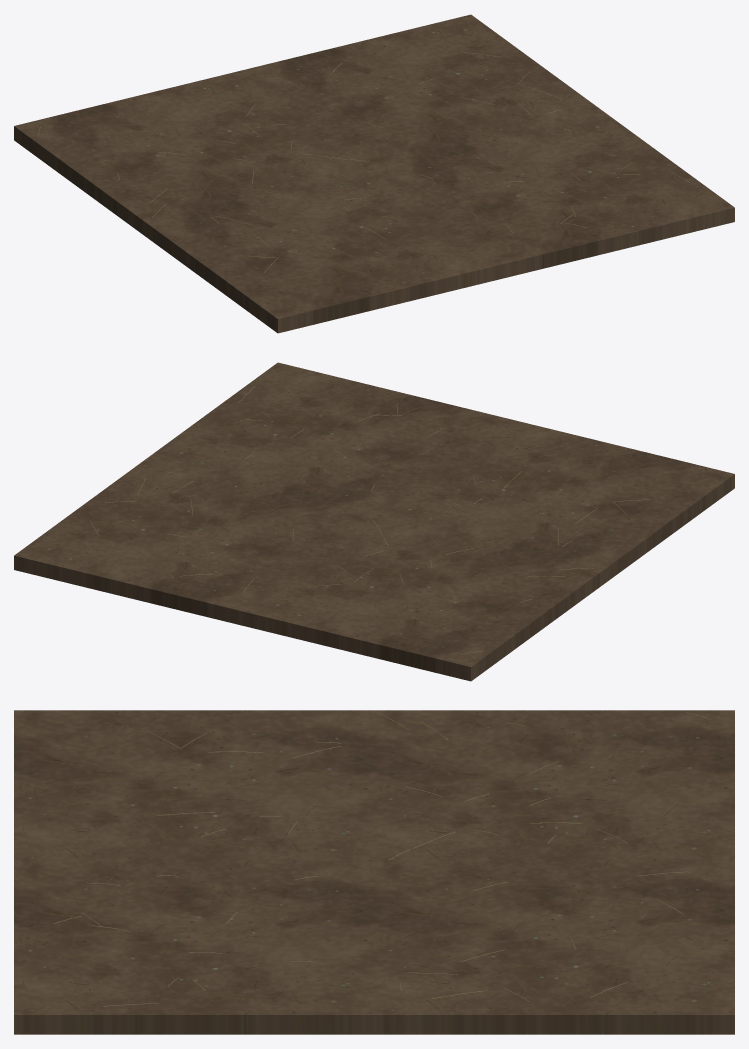
The model's file is floor_earth_2x2.glb.
3 renders of one model, top to bottom at view 1: azimuth 30°, elevation 25°; view 2: azimuth 150°, elevation 25°; view 3: azimuth 270°, elevation 25°, orthographic. The views are drawn at different scales.
Visible parts, largest first — view 1: floor_earth_2x2; view 2: floor_earth_2x2; view 3: floor_earth_2x2.
Boxes of the visible parts, left/top/right/bottom form: floor_earth_2x2: left=14, top=14, right=734, bottom=333; floor_earth_2x2: left=14, top=362, right=734, bottom=681; floor_earth_2x2: left=14, top=710, right=734, bottom=1034.
Bounding box in the file's own units: 2 × 0.0696 × 2.
1 material, 1 textured.
